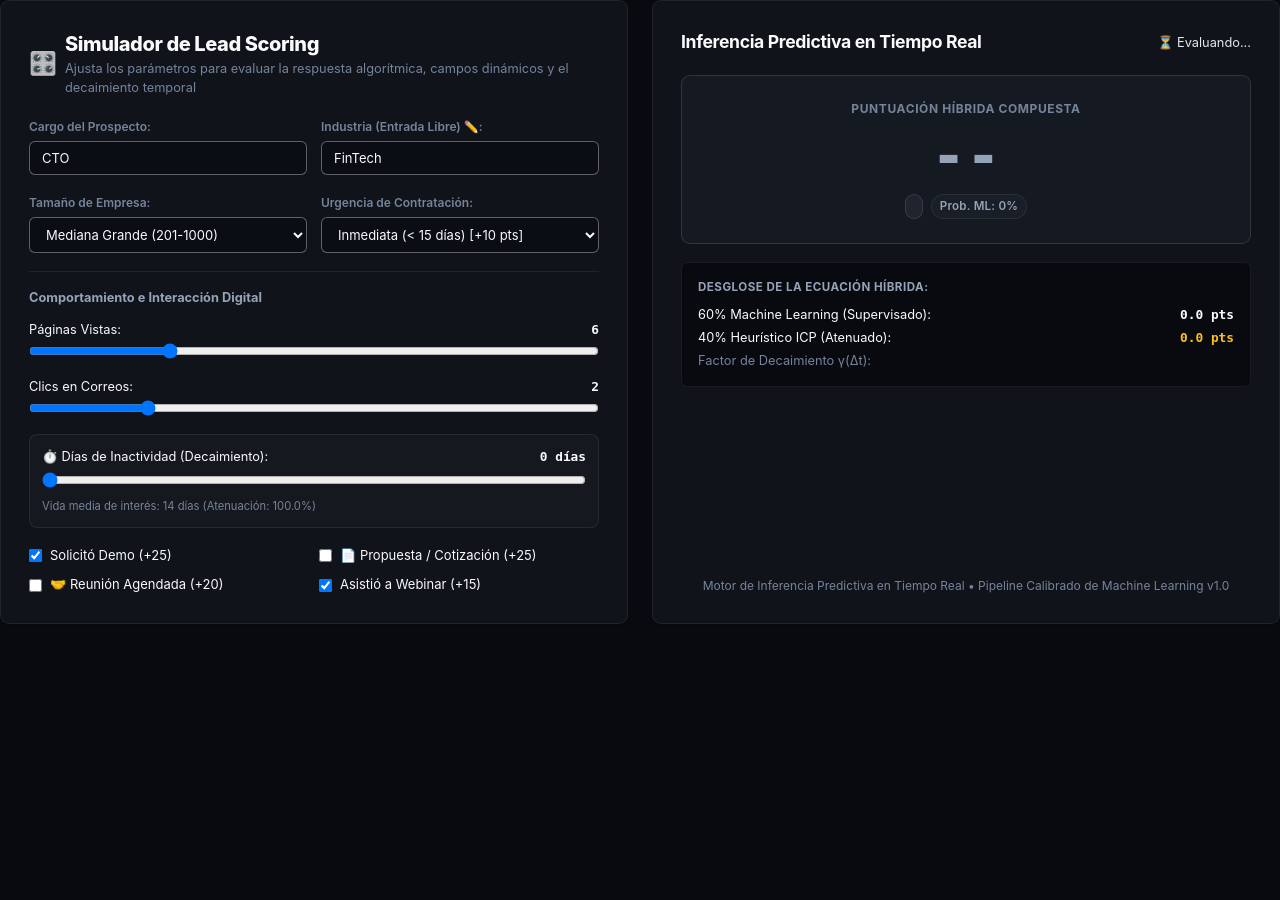
it: el pulso de las peticiones › una respuesta vieja que llega tarde no pisa a la nueva
Set the slider labelled "Páginas Vistas:" to "20" at (480, 351), box [29,343,599,359]
Wait 250 ms
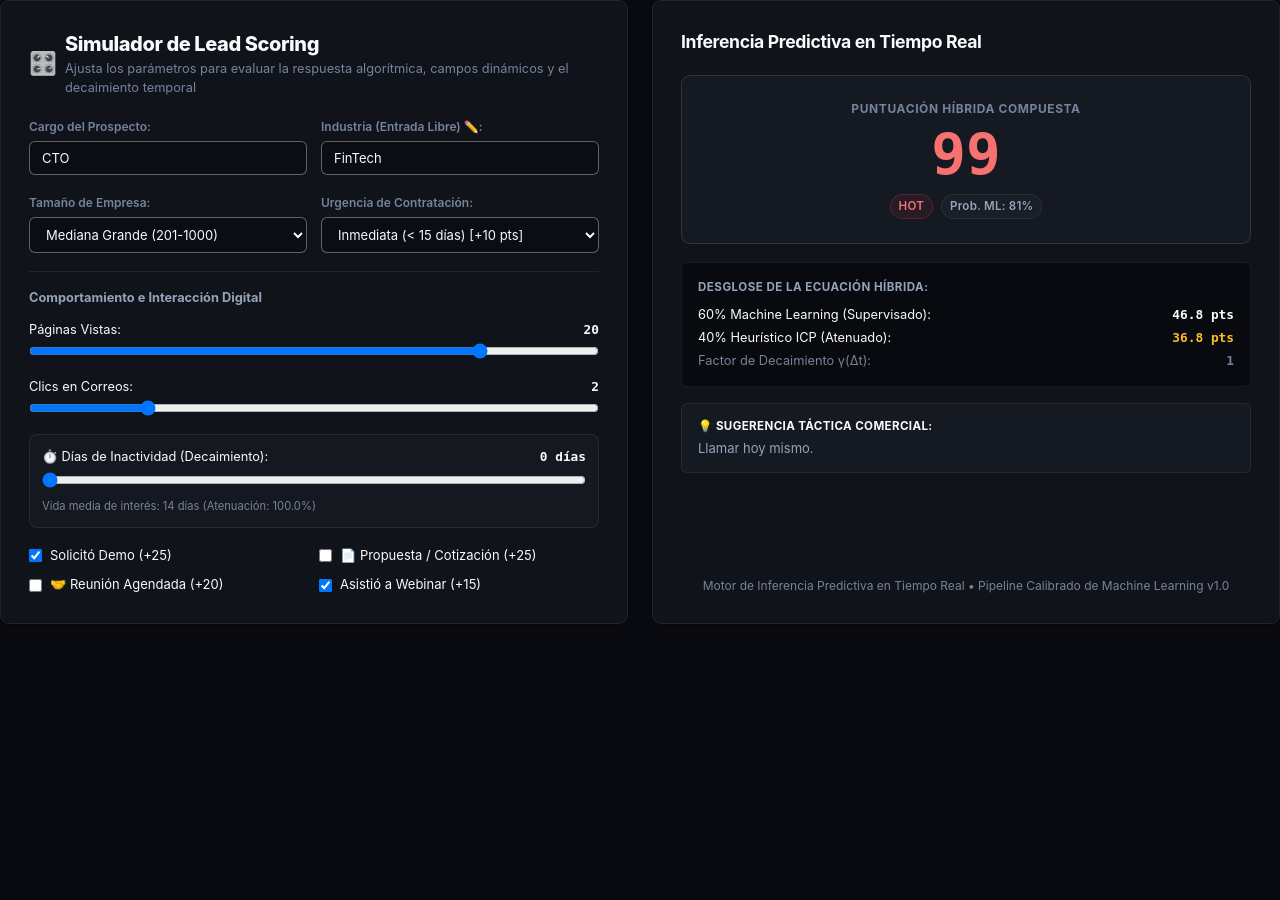
Expected: the text "99" is shown, [931,122,1001,189]
